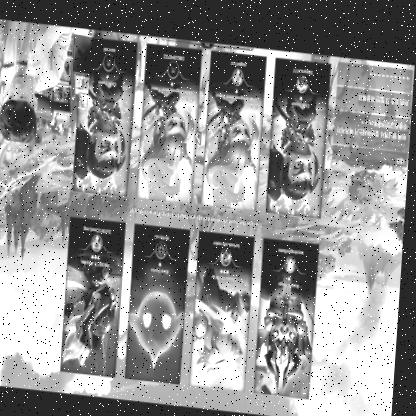streamer: (0, 19, 74, 144)
